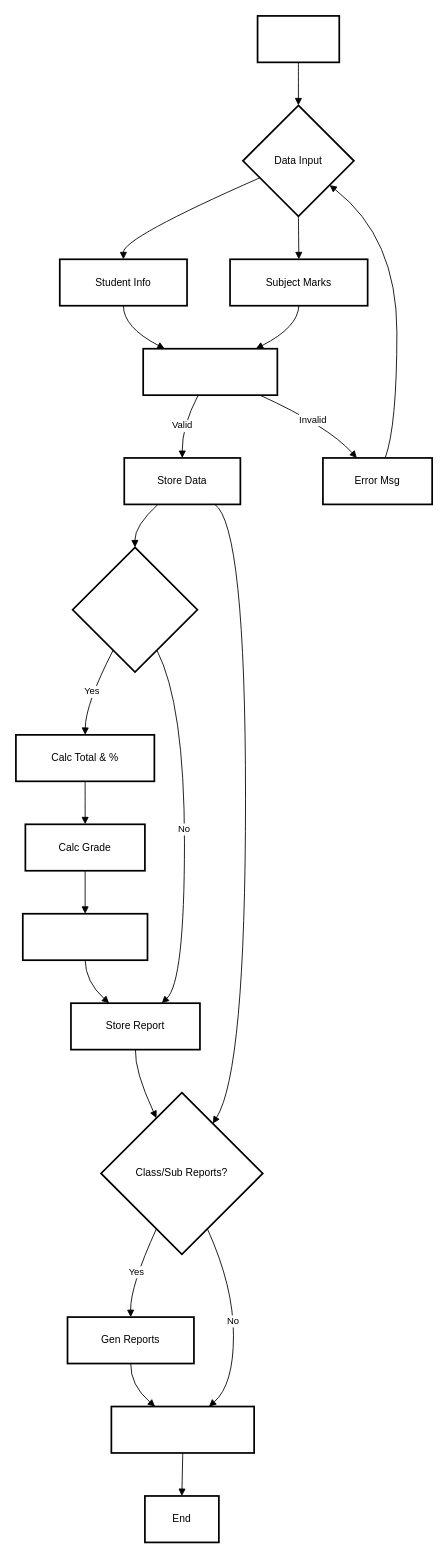
Image size: 447x1557. Some labels were removed from this diagram. The shapes that lost their labels are listed below. From the top down, each one's centre as x and y in pixels, then its label:
At pixel 298 39: "Start".
At pixel 210 371: "Validate Data".
At pixel 134 609: "Calc Results?".
At pixel 85 936: "Report Card".
At pixel 182 1429: "Display/Export".
